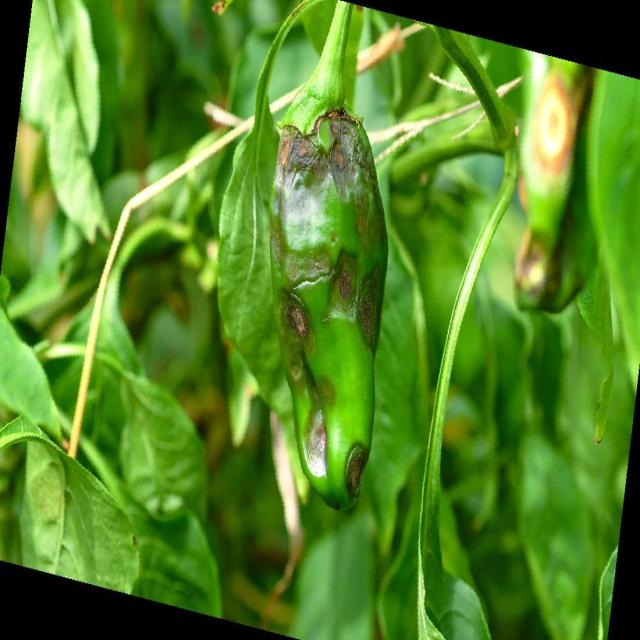Moko: (349, 262, 397, 360), (283, 116, 333, 201), (338, 423, 374, 514), (329, 114, 372, 187), (286, 119, 330, 188), (302, 392, 327, 494), (326, 242, 356, 318), (282, 287, 308, 370)
